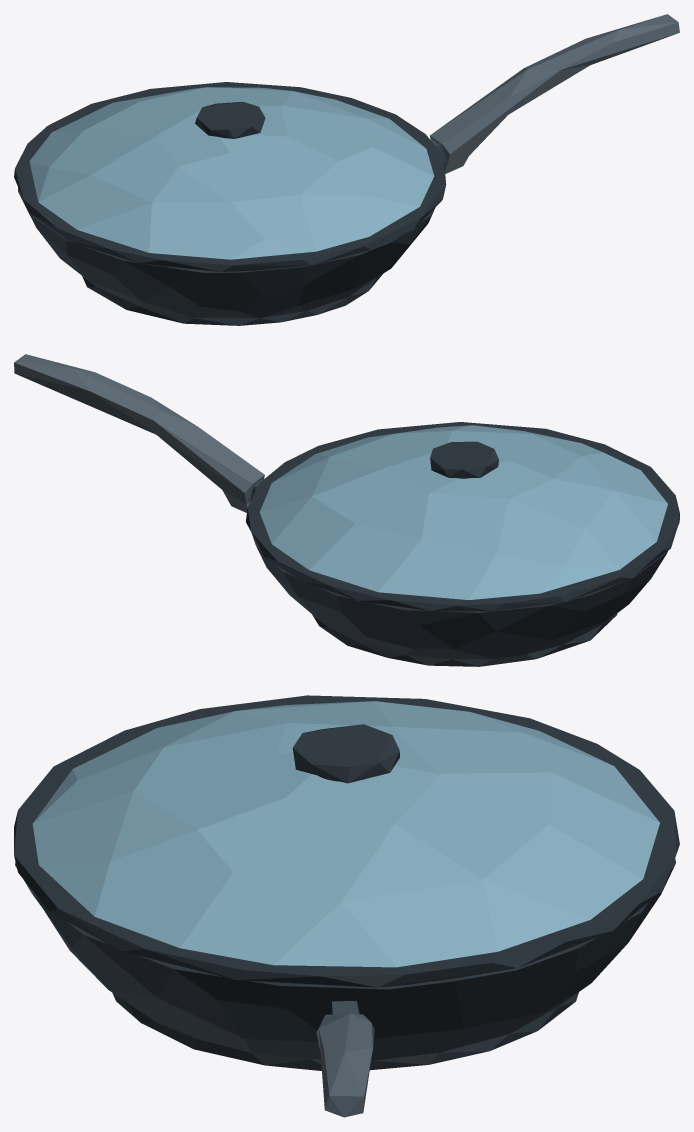
Rendered from Pan03.fbx.
3 renders of one model, top to bottom at view 1: azimuth 30°, elevation 25°; view 2: azimuth 150°, elevation 25°; view 3: azimuth 270°, elevation 25°, orthographic. The views are drawn at different scales.
Visible parts, largest first — view 1: Pan03LidLowPoly, Pan03LowPoly; view 2: Pan03LidLowPoly, Pan03LowPoly; view 3: Pan03LidLowPoly, Pan03LowPoly.
Part boxes in pixels (x1,y1,x2,y2): Pan03LidLowPoly: [14, 82, 446, 271]; Pan03LowPoly: [18, 14, 679, 325]; Pan03LidLowPoly: [246, 422, 679, 611]; Pan03LowPoly: [14, 354, 679, 666]; Pan03LidLowPoly: [14, 695, 679, 987]; Pan03LowPoly: [15, 858, 675, 1117].
Size of the model in its own units: 47.24 by 10.47 by 27.99.
